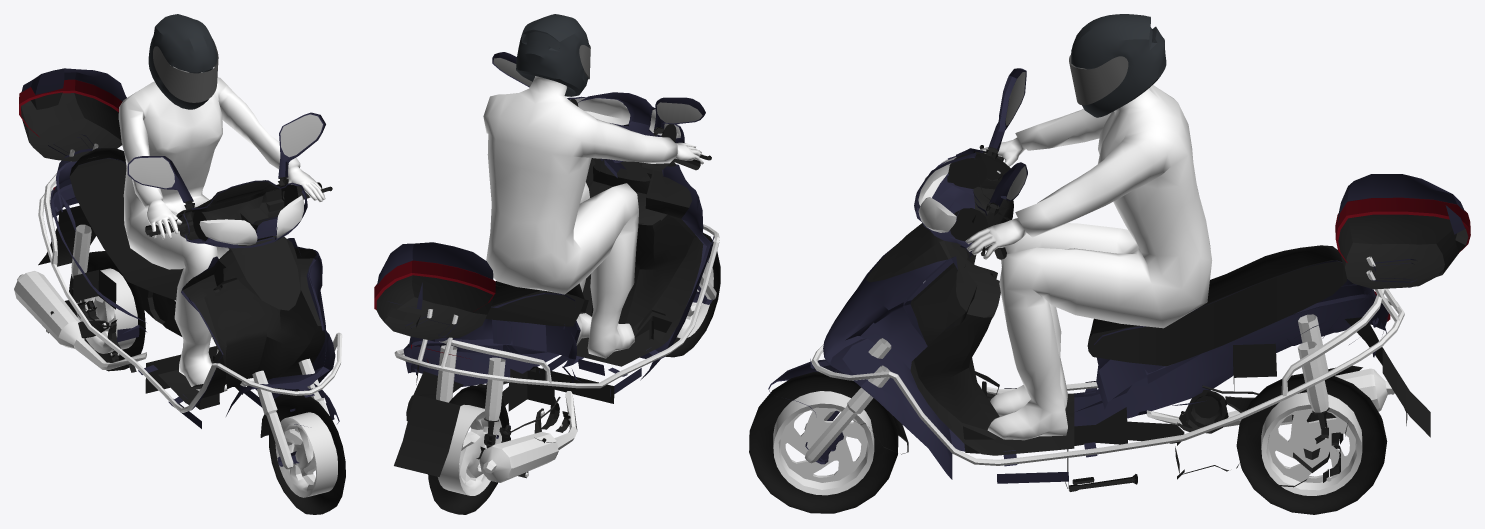
The model's file is SM_Motor01.glb.
3 views of the same model, side by side, from view 1: azimuth 30°, elevation 25°; view 2: azimuth 150°, elevation 25°; view 3: azimuth 270°, elevation 25° (orthographic). The views are drawn at different scales.
Visible parts, largest first — view 1: SM_Motor; view 2: SM_Motor; view 3: SM_Motor.
Boxes of the visible parts, x1,y1,x2,y2 form: SM_Motor: (14, 14, 345, 514); SM_Motor: (374, 14, 720, 514); SM_Motor: (749, 14, 1470, 514).
Size of the model in its own units: 0.7744 by 1.51 by 2.
